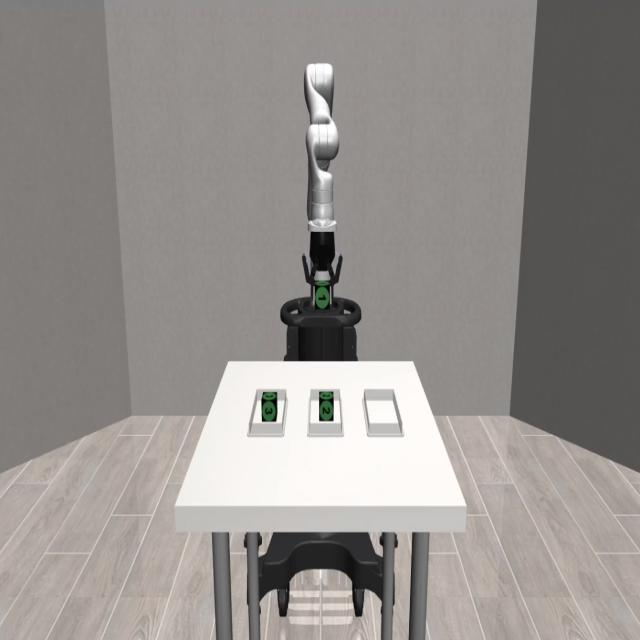cube1: (314, 281, 332, 308)
cube2: (320, 390, 335, 423)
cube3: (260, 389, 278, 423)
